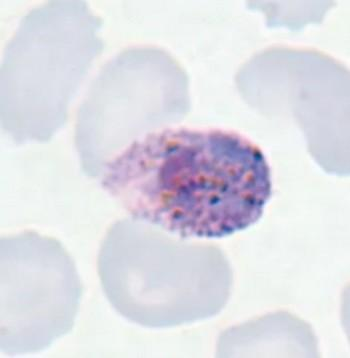Infected: (96, 122, 274, 237)
Uninfected: (233, 41, 350, 178), (74, 47, 192, 180), (95, 218, 235, 325), (6, 1, 98, 147), (0, 230, 84, 358)
